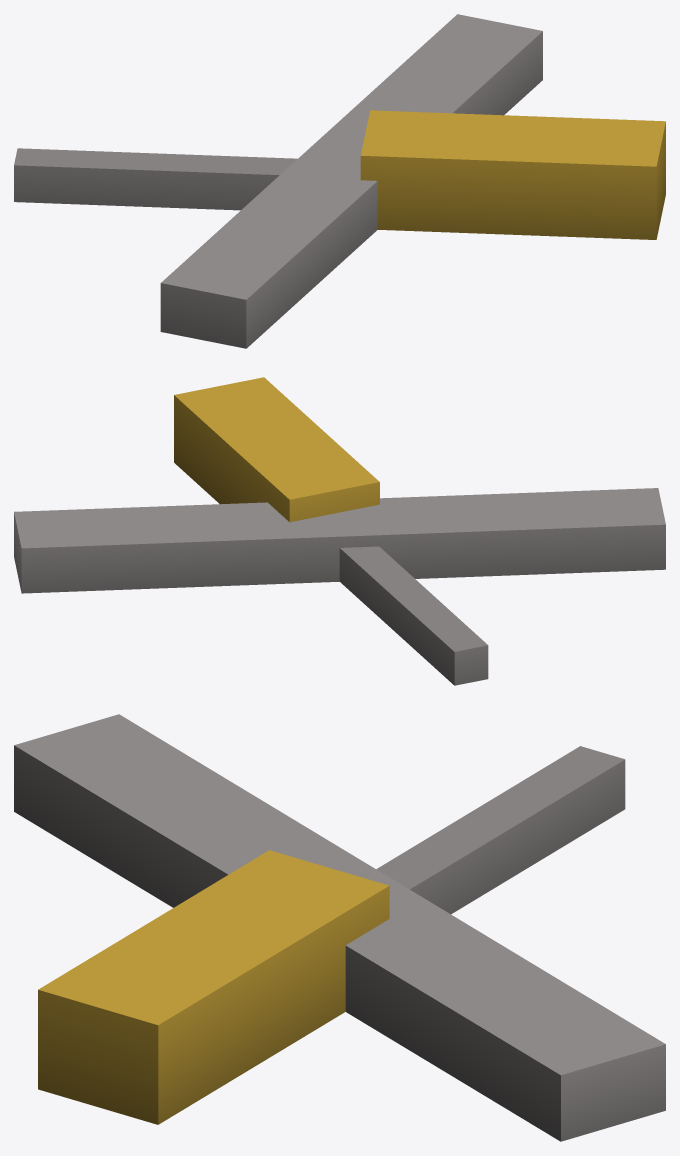
File: repair-pack.glb
3 renders of one model, top to bottom at view 1: azimuth 30°, elevation 25°; view 2: azimuth 150°, elevation 25°; view 3: azimuth 270°, elevation 25°, orthographic. The views are drawn at different scales.
Visible parts, largest first — view 1: repair-pack; view 2: repair-pack; view 3: repair-pack.
Part boxes in pixels (box(x1,y1,x2,y2)): repair-pack: box(14, 14, 665, 348); repair-pack: box(14, 377, 665, 685); repair-pack: box(14, 714, 665, 1141).
Size of the model in its own units: 0.2331 by 0.03 by 0.1778.
